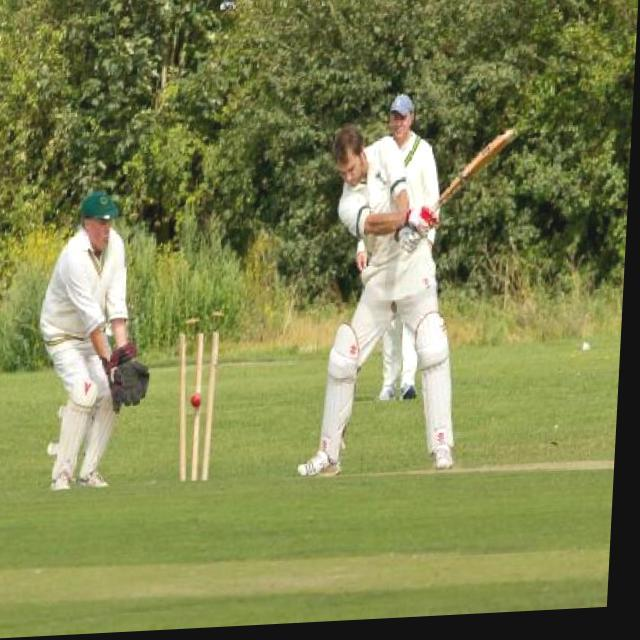-: (191, 388, 214, 417)
